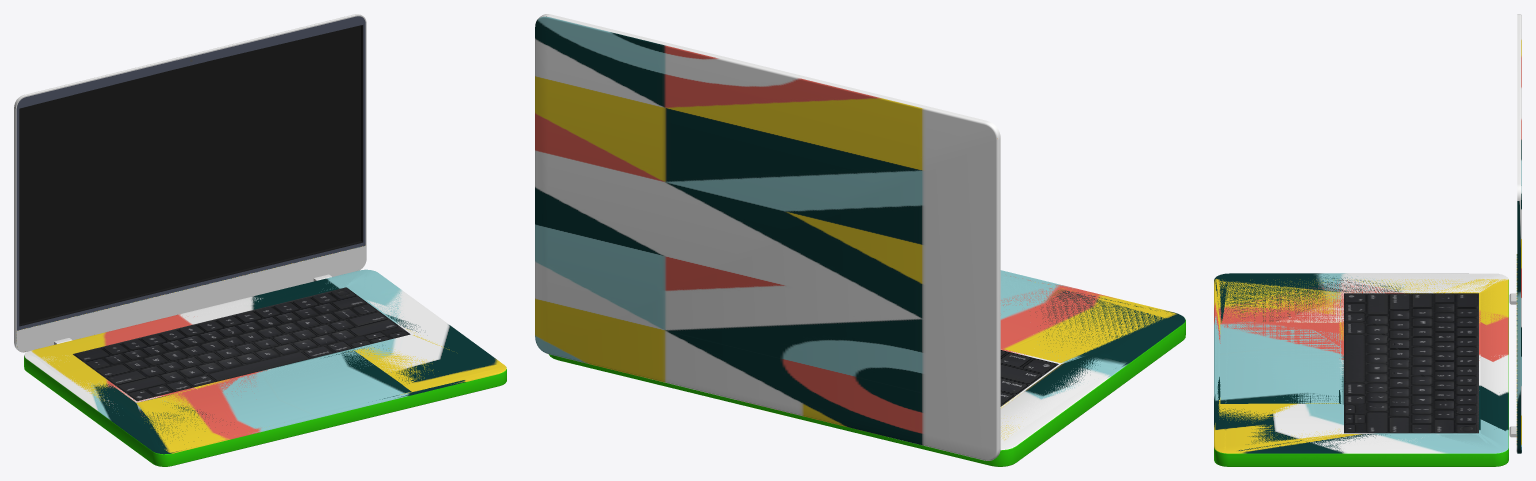
Rendered from pc_1_bask.fbx.
3 views of the same model, side by side, from view 1: azimuth 30°, elevation 25°; view 2: azimuth 150°, elevation 25°; view 3: azimuth 270°, elevation 25° (orthographic). The views are drawn at different scales.
Visible parts, largest first — view 1: ekran_bosluk, kasa_klayve_bosluk, sadece_klavye, bos_kasa, kasa_mousepad_bosluk, kasa_klayve_mousepad_bosluk; view 2: ekran_bosluk, kasa_klayve_bosluk, kasa_mousepad_bosluk, bos_kasa, sadece_klavye; view 3: kasa_klayve_bosluk, sadece_klavye, kasa_mousepad_bosluk, bos_kasa, kasa_klayve_mousepad_bosluk, ekran_bosluk.
Part boxes in pixels (left/top/right/bottom): ekran_bosluk: left=14, top=14, right=366, bottom=352; kasa_klayve_bosluk: left=24, top=269, right=506, bottom=466; sadece_klavye: left=73, top=287, right=410, bottom=400; bos_kasa: left=24, top=270, right=506, bottom=465; kasa_mousepad_bosluk: left=87, top=270, right=504, bottom=453; kasa_klayve_mousepad_bosluk: left=27, top=270, right=502, bottom=450; ekran_bosluk: left=535, top=14, right=1000, bottom=460; kasa_klayve_bosluk: left=549, top=271, right=1185, bottom=466; kasa_mousepad_bosluk: left=1000, top=270, right=1183, bottom=444; bos_kasa: left=551, top=274, right=1185, bottom=464; sadece_klavye: left=1000, top=350, right=1058, bottom=406; kasa_klayve_bosluk: left=1214, top=273, right=1508, bottom=466; sadece_klavye: left=1344, top=293, right=1478, bottom=433; kasa_mousepad_bosluk: left=1214, top=274, right=1506, bottom=452; bos_kasa: left=1214, top=274, right=1508, bottom=465; kasa_klayve_mousepad_bosluk: left=1216, top=273, right=1507, bottom=452; ekran_bosluk: left=1509, top=14, right=1521, bottom=453.
Size of the model in its own units: 357 by 257 by 258.
